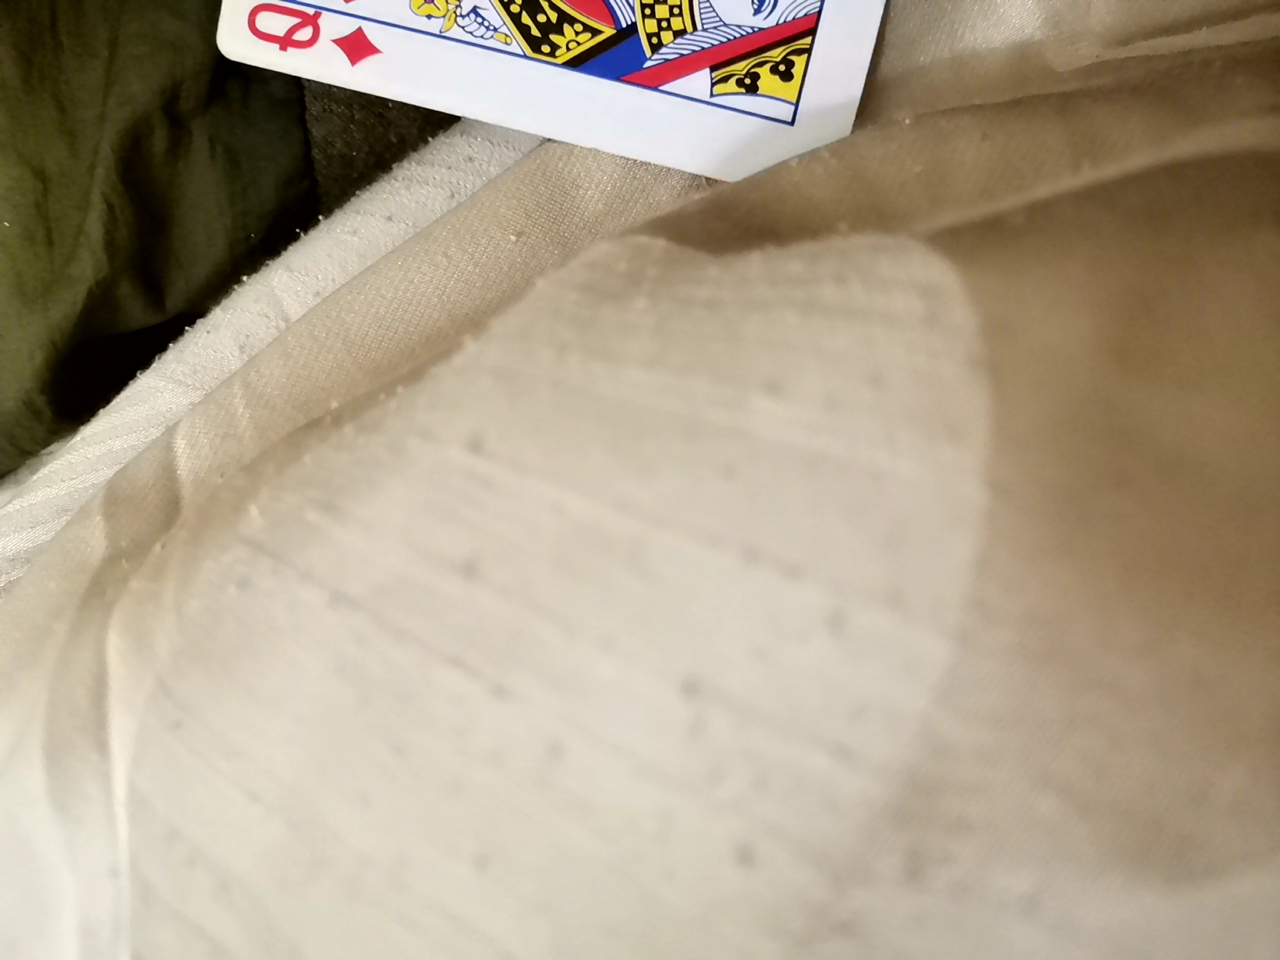fk q: (227, 2, 908, 188)
